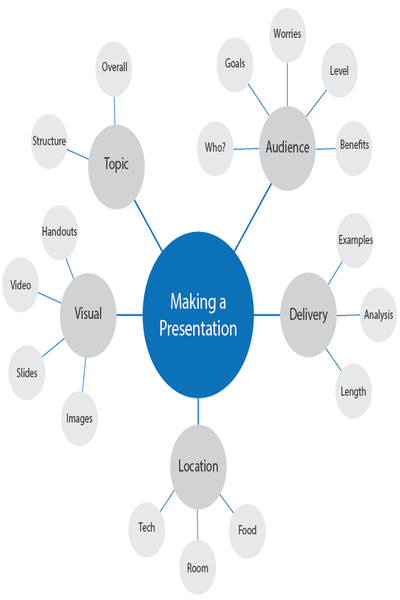arrow: (236, 185, 270, 252), (134, 201, 162, 250), (305, 88, 326, 120), (248, 85, 270, 115), (78, 357, 91, 392), (327, 261, 343, 288), (43, 339, 64, 359), (66, 144, 88, 161), (159, 490, 177, 510), (326, 349, 343, 370), (192, 398, 204, 426), (283, 62, 291, 104), (192, 511, 203, 539), (110, 97, 121, 125), (251, 310, 281, 320), (38, 291, 61, 304), (118, 312, 143, 322), (221, 496, 234, 512), (64, 261, 75, 279), (337, 312, 360, 318)
topic: (142, 231, 256, 399), (168, 425, 229, 512), (280, 271, 338, 356), (259, 106, 316, 192), (88, 125, 145, 208), (61, 274, 116, 357), (178, 538, 218, 596), (334, 363, 372, 423), (29, 111, 67, 169), (227, 504, 267, 559), (359, 287, 397, 344), (269, 6, 307, 63), (321, 42, 359, 99), (128, 502, 166, 558), (41, 204, 78, 261), (215, 38, 253, 93), (2, 258, 38, 314), (335, 212, 373, 265), (95, 42, 132, 96), (197, 122, 234, 176), (7, 346, 45, 398), (337, 121, 371, 177), (61, 393, 96, 443)
